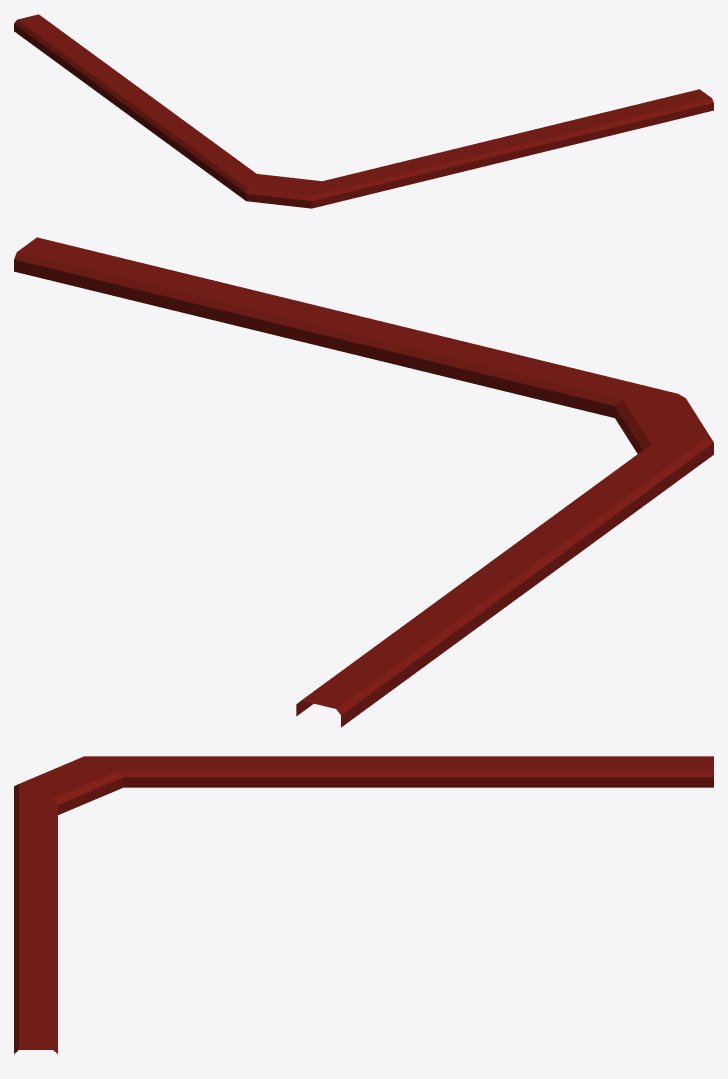
The model's file is edge_ground_corner_01.FBX.
The picture shows the model from 3 angles, top to bottom: view 1: azimuth 30°, elevation 25°; view 2: azimuth 150°, elevation 25°; view 3: azimuth 270°, elevation 25°; orthographic projection. The views are drawn at different scales.
Visible parts, largest first — view 1: edge_ground_corner_01; view 2: edge_ground_corner_01; view 3: edge_ground_corner_01.
Part boxes in pixels (bbox=[...]): edge_ground_corner_01: bbox=[14, 14, 713, 208]; edge_ground_corner_01: bbox=[14, 237, 713, 727]; edge_ground_corner_01: bbox=[14, 756, 713, 1053].
Bounding box in the file's own units: 427 × 9.95 × 427.
